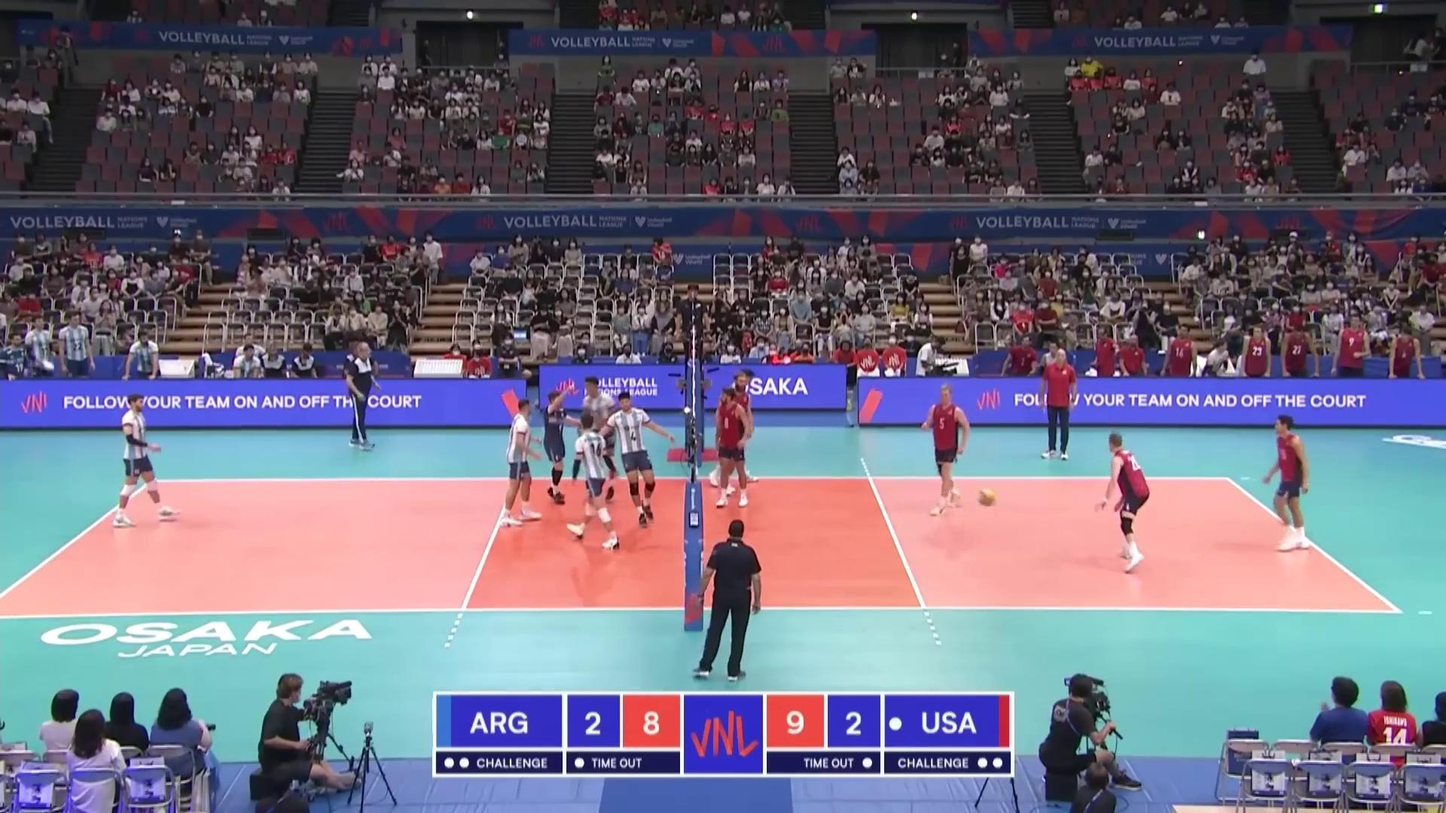player: (112, 394, 180, 527), (603, 394, 670, 526), (1100, 434, 1152, 570), (569, 412, 619, 549), (1263, 417, 1313, 549), (922, 382, 970, 515), (568, 375, 618, 501), (710, 370, 759, 485), (500, 400, 542, 528), (544, 388, 580, 506), (715, 386, 749, 507), (719, 375, 749, 498)
refree: (695, 521, 760, 682), (679, 286, 711, 380)
